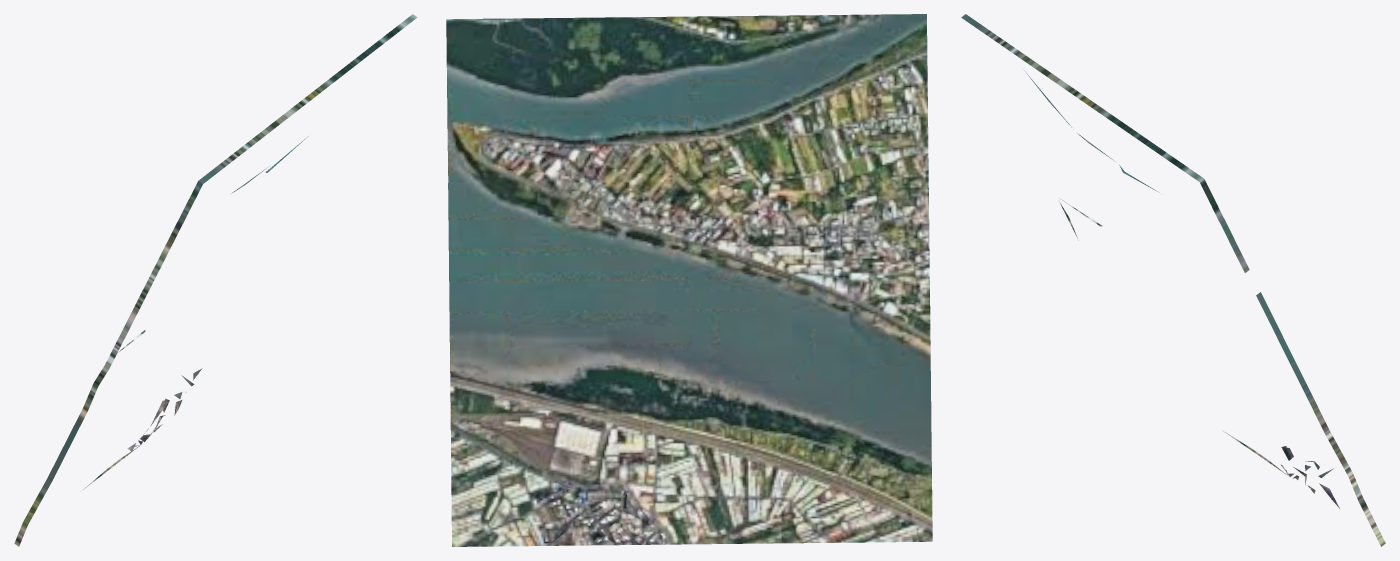
The picture shows the model from 3 angles, left to right: view 1: azimuth 30°, elevation 25°; view 2: azimuth 150°, elevation 25°; view 3: azimuth 270°, elevation 25°; orthographic projection. The views are drawn at different scales.
Size of the model in its own units: 2445 by 2218 by 2063.
Materials: 1 (1 with a texture image).
